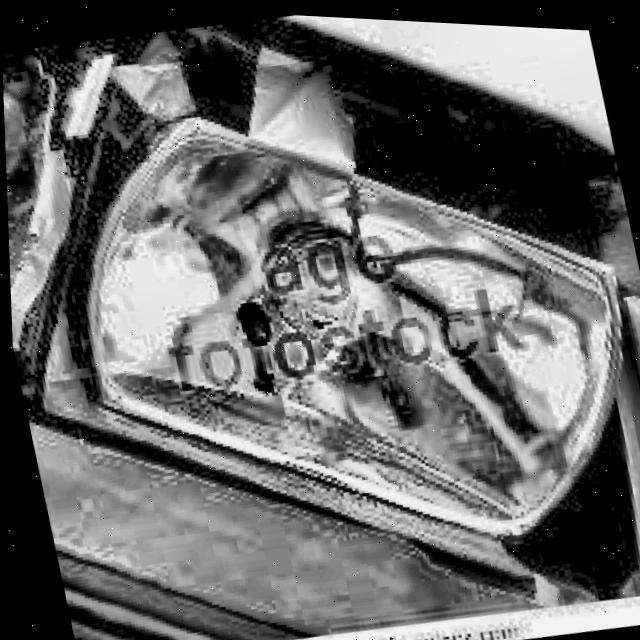head_lamp: (0, 1, 379, 502), (313, 62, 640, 569)
